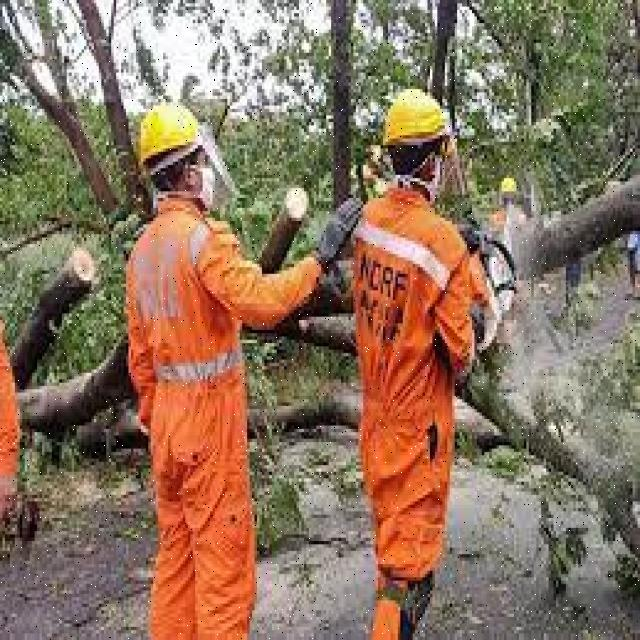rescuer: (136, 95, 258, 635), (370, 86, 460, 612)
